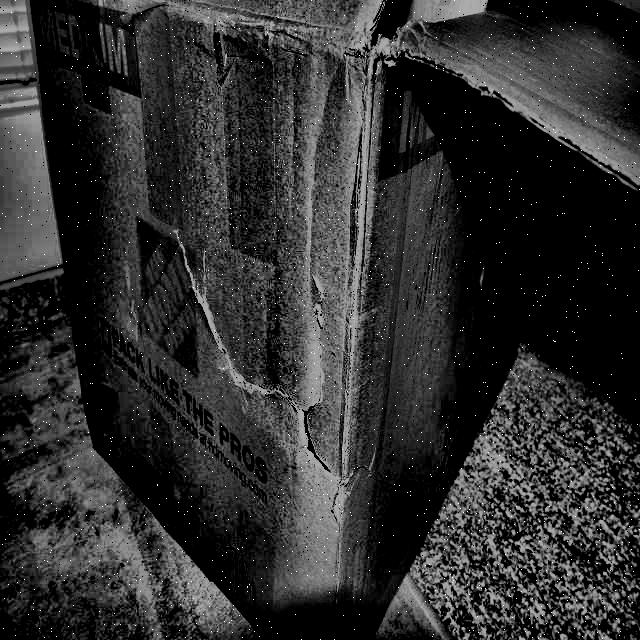box: (24, 0, 639, 639)
hole: (297, 396, 331, 481)
